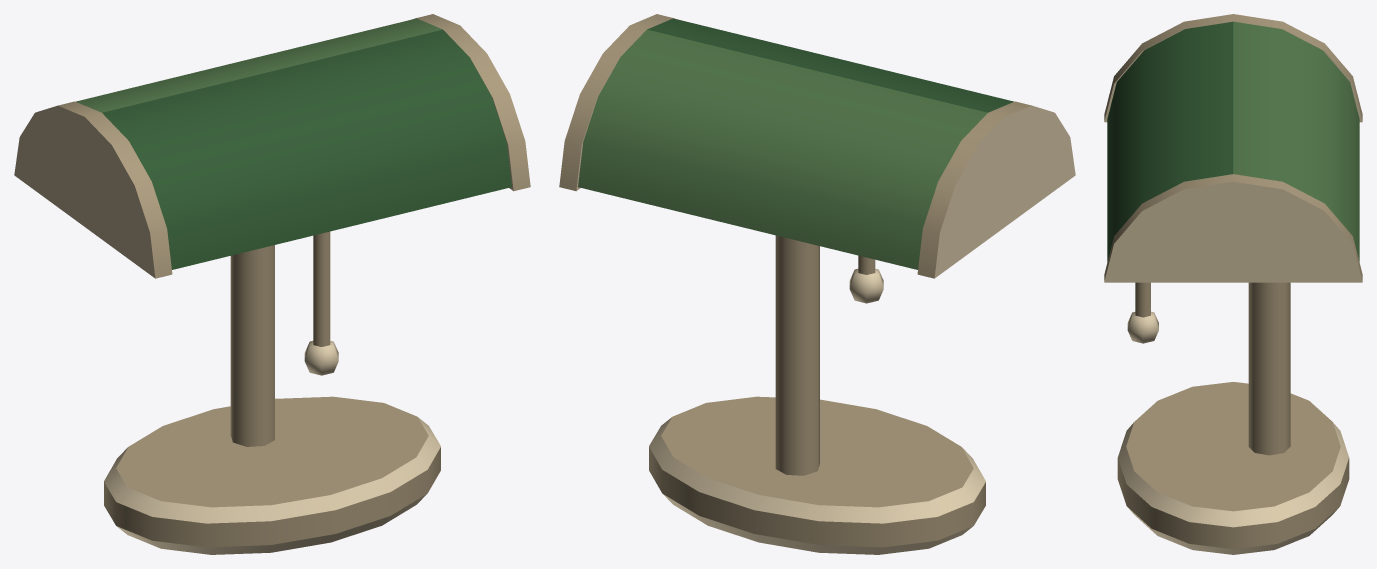
File: BankersLamp.fbx
3 views of the same model, side by side, from view 1: azimuth 30°, elevation 25°; view 2: azimuth 150°, elevation 25°; view 3: azimuth 270°, elevation 25° (orthographic). The views are drawn at different scales.
Parts seen in each view (by area): view 1: BankersLamp; view 2: BankersLamp; view 3: BankersLamp.
Part boxes in pixels (x1,y1,x2,y2): BankersLamp: (14, 14, 530, 554); BankersLamp: (559, 14, 1075, 554); BankersLamp: (1104, 14, 1362, 554).
Bounding box in the file's own units: 1.32 × 1.44 × 0.86.
1 material, 1 textured.
